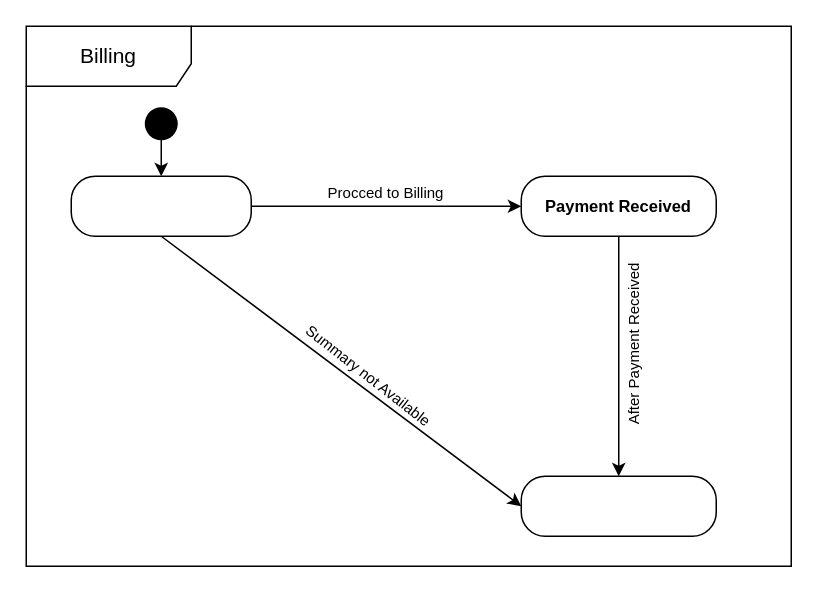
Image size: 818x593. Some labels were removed from this diagram. Each missing label, with the centre of its shape:
Discharge Summary Available: pixel 160 205
Return: pixel 618 505
